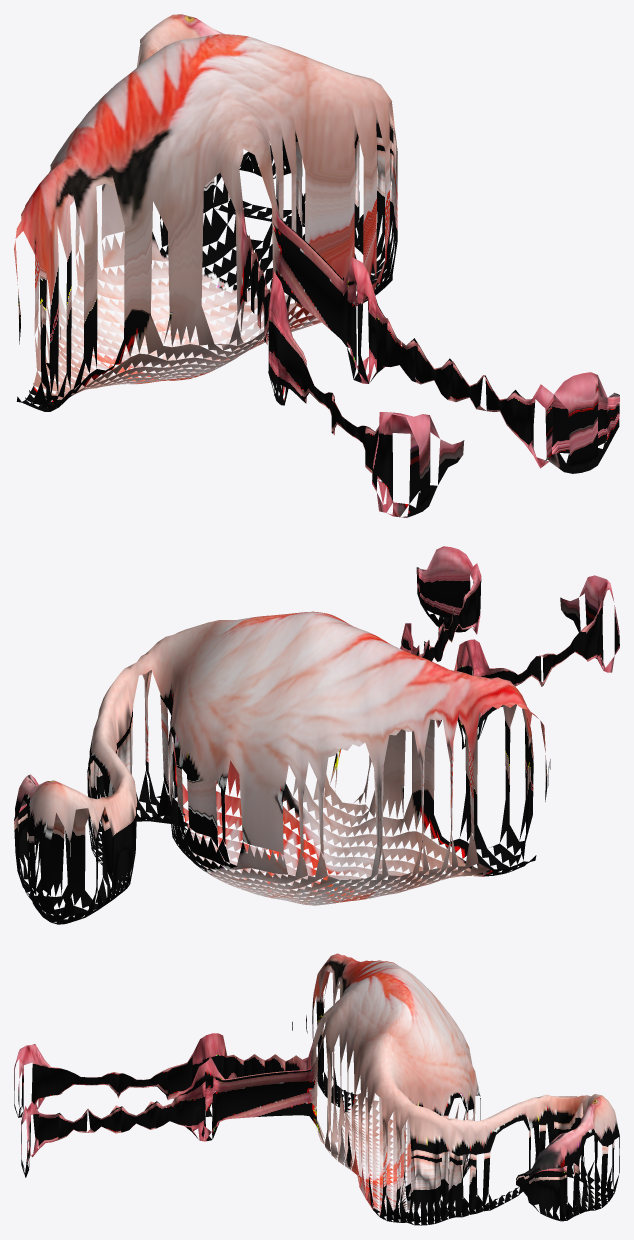
File: flamingo.glb
3 views of the same model, one above another, from view 1: azimuth 30°, elevation 25°; view 2: azimuth 150°, elevation 25°; view 3: azimuth 270°, elevation 25° (orthographic). The views are drawn at different scales.
Visible parts, largest first — view 1: flamingo_obj; view 2: flamingo_obj; view 3: flamingo_obj.
Part boxes in pixels (x1=…): flamingo_obj: x1=14, y1=14, x2=619, y2=517; flamingo_obj: x1=14, y1=546, x2=619, y2=924; flamingo_obj: x1=14, y1=953, x2=619, y2=1225.
Bounding box in the file's own units: 1.02 × 0.7389 × 1.82.
1 material, 1 textured.
